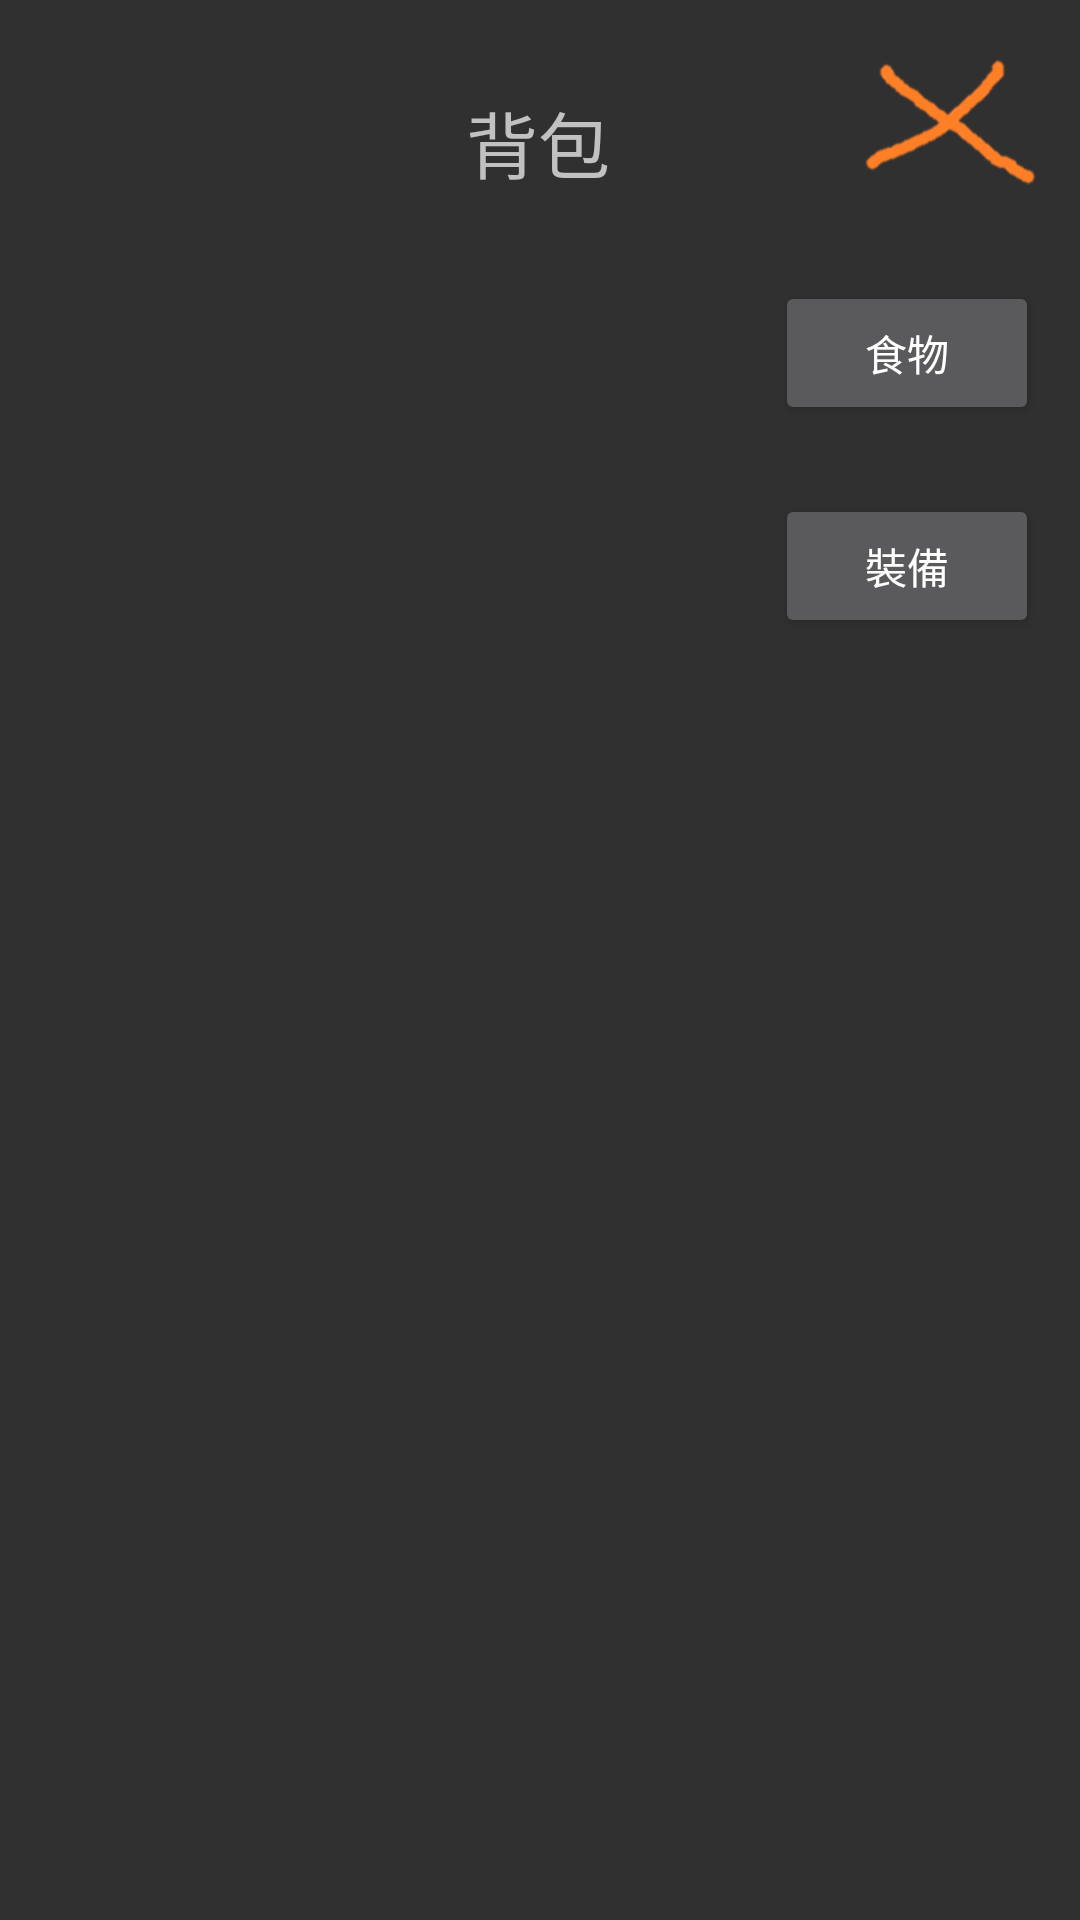

Screen size 1080px x 1920px. Icon name, then its center in pixels as [x,y]:
close: [950,122]
